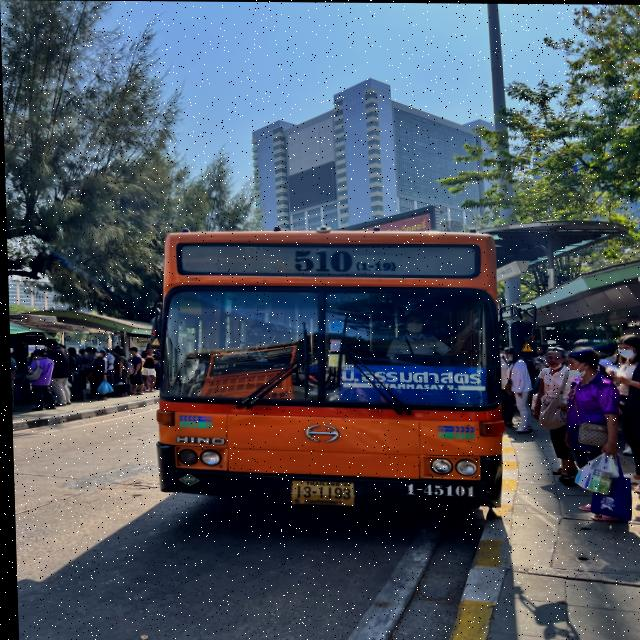BMTA-bus: (153, 230, 502, 511)
Bus Line Number: (285, 245, 396, 274)
Bus Side Number: (398, 482, 477, 500)
Destination Sign: (338, 365, 487, 407)
